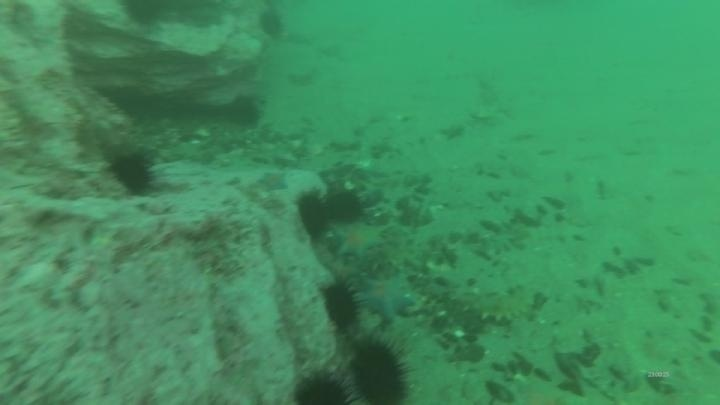echinus: (346, 337, 414, 405), (107, 150, 159, 197), (319, 278, 363, 333), (290, 369, 353, 404), (293, 190, 333, 241), (323, 187, 366, 226), (118, 1, 171, 30), (224, 93, 264, 130), (256, 8, 287, 41)
holothurian: (451, 283, 538, 328)
starfish: (356, 270, 416, 324), (503, 371, 577, 404), (328, 220, 386, 261), (255, 169, 291, 194), (437, 120, 467, 143)
